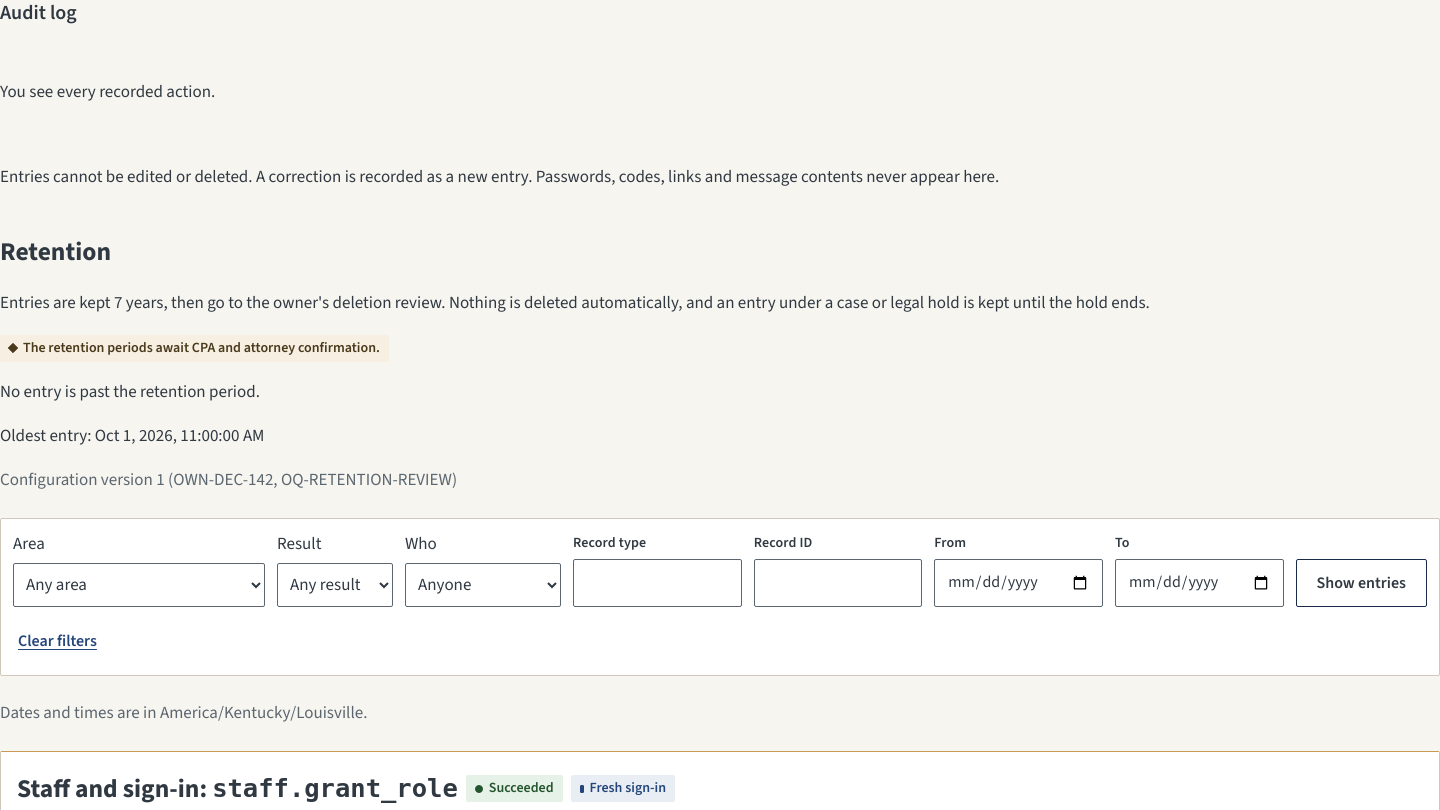
it: audit-log screen (TSK-0098, HH-STAFF-08) › [HH-API-03] a refused filter says so
The width and height of the screenshot is (1440, 810).
Check: the text "staff.grant_role" is shown, box [212,773,458,803]
In the date field labelled "From": coordinates (1019, 583) [934,559,1103,607], type "2026-12-01"
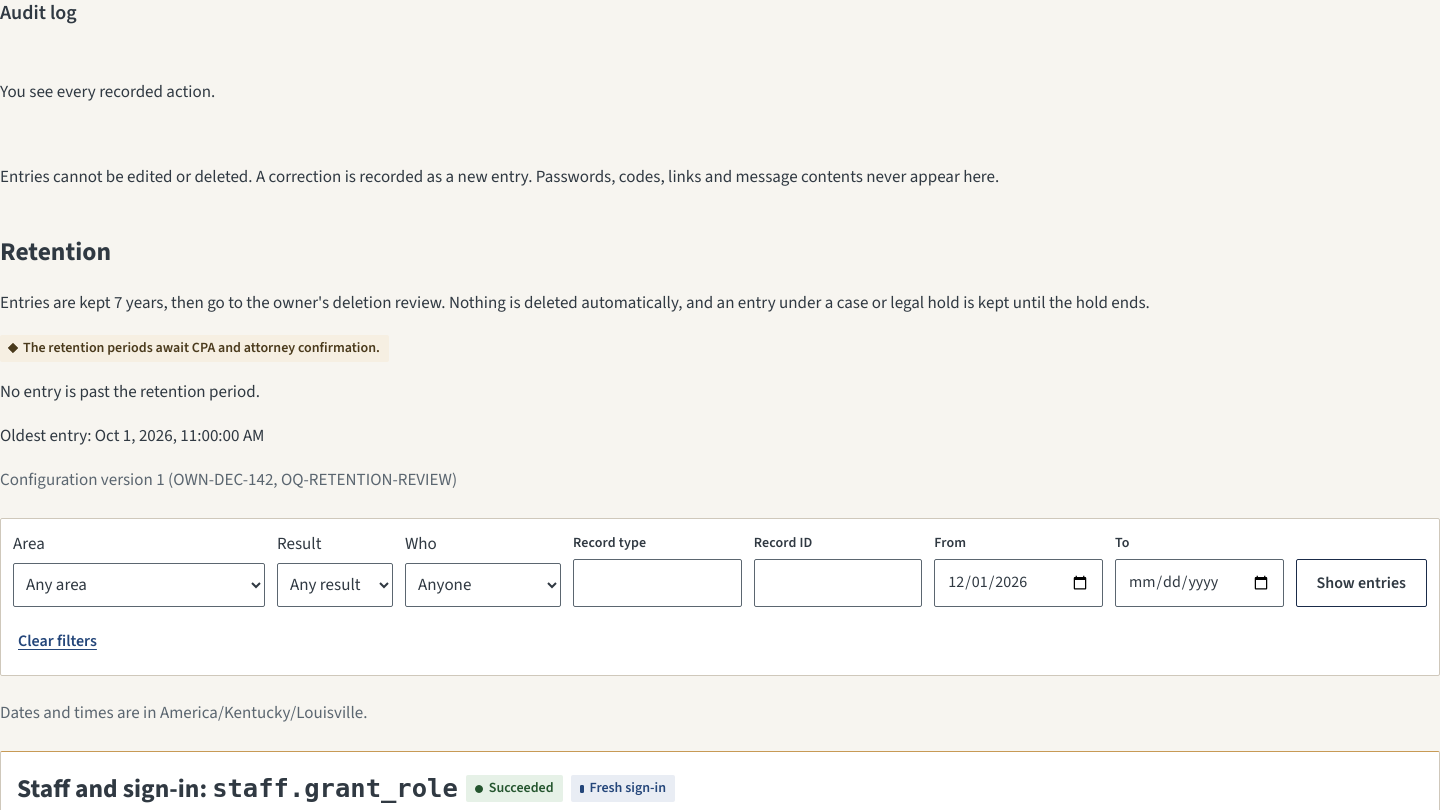
Click the button "Show entries": coordinates (1361, 583) [1296,559,1427,607]
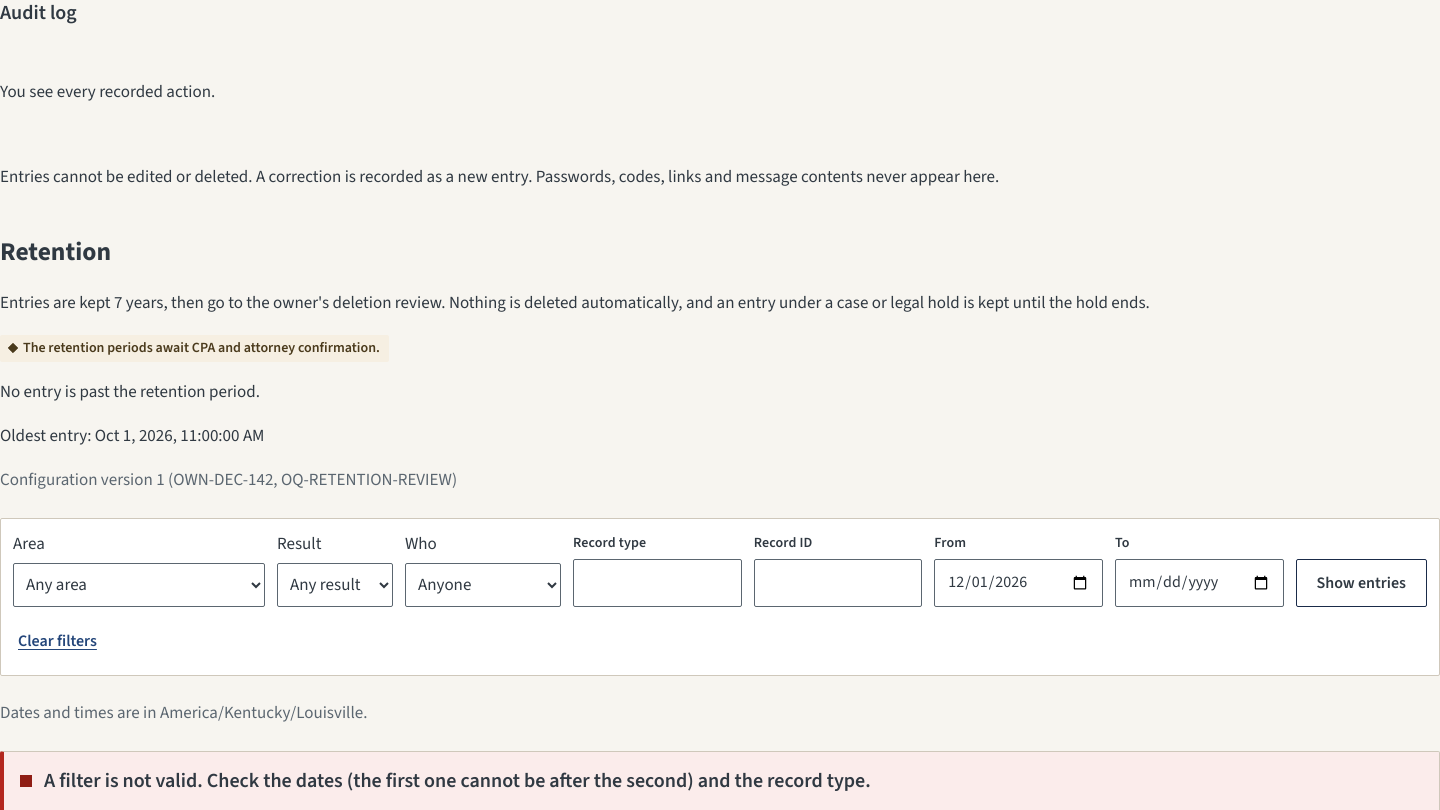
Check: the text "A filter is not valid" is shown, box [44,767,871,795]
